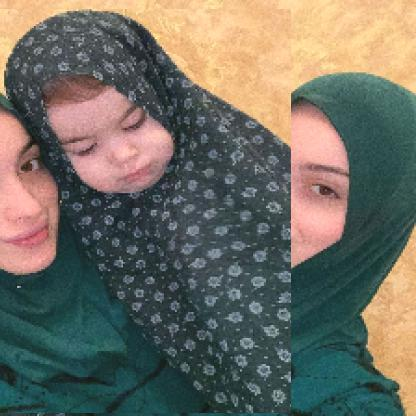child: (1, 10, 293, 415)
